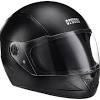helmet: (0, 0, 98, 99)
